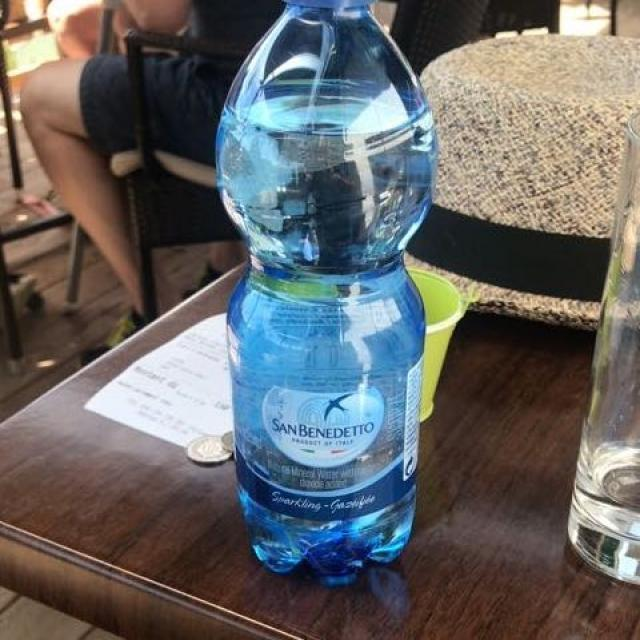water: (228, 92, 422, 564)
